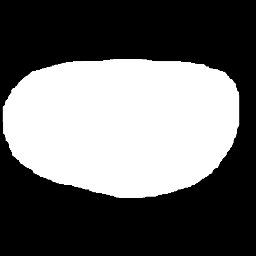mass: (11, 54, 233, 195)
